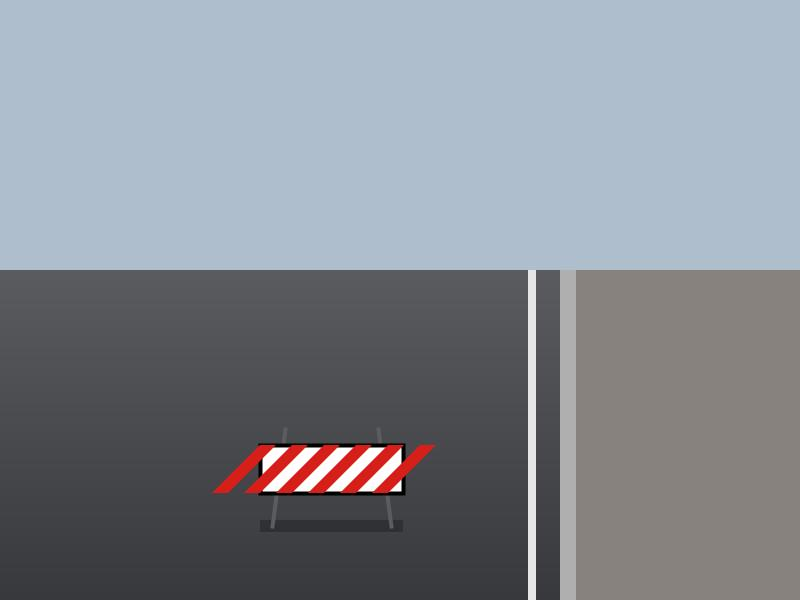ROAD_OBSTACLE: (260, 419, 403, 526)
